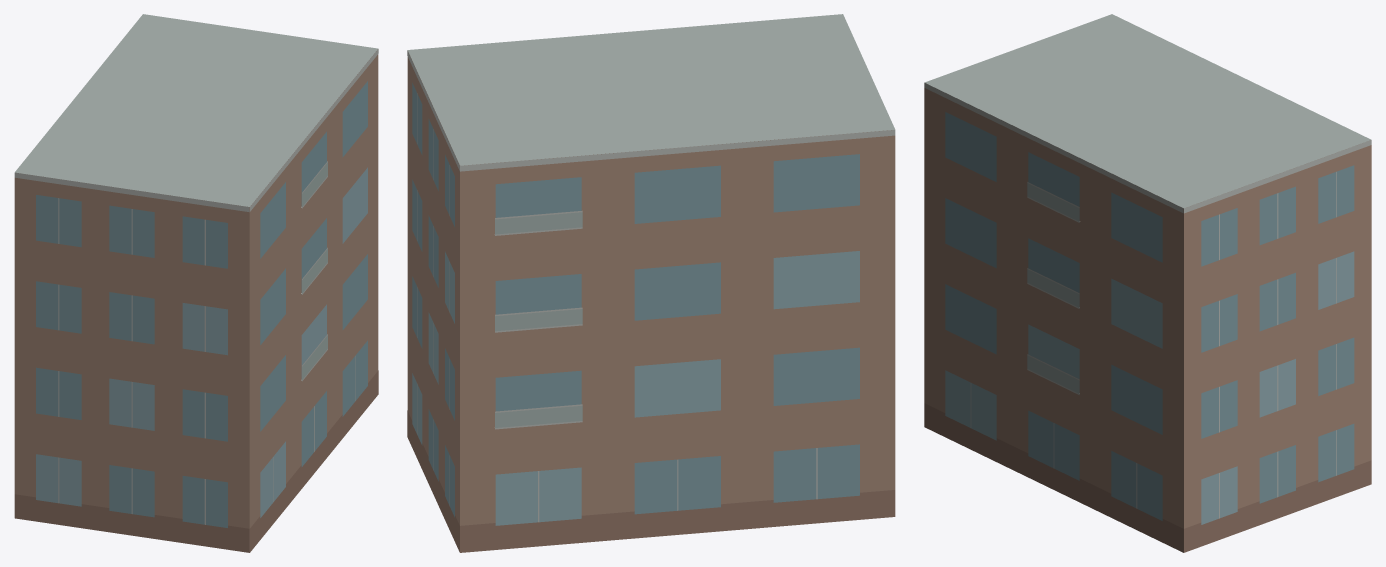
File: survey-upis-33026093.glb
The picture shows the model from 3 angles, left to right: view 1: azimuth 30°, elevation 25°; view 2: azimuth 150°, elevation 25°; view 3: azimuth 270°, elevation 25°; orthographic projection. The views are drawn at different scales.
Visible parts, largest first — view 1: survey-upis-33026093.tmp; view 2: survey-upis-33026093.tmp; view 3: survey-upis-33026093.tmp.
Boxes of the visible parts, x1,y1,x2,y2 form: survey-upis-33026093.tmp: (14,14,378,552); survey-upis-33026093.tmp: (407,14,895,552); survey-upis-33026093.tmp: (924,14,1371,552).
Bounding box in the file's own units: 19.73 × 16.3 × 19.19.
